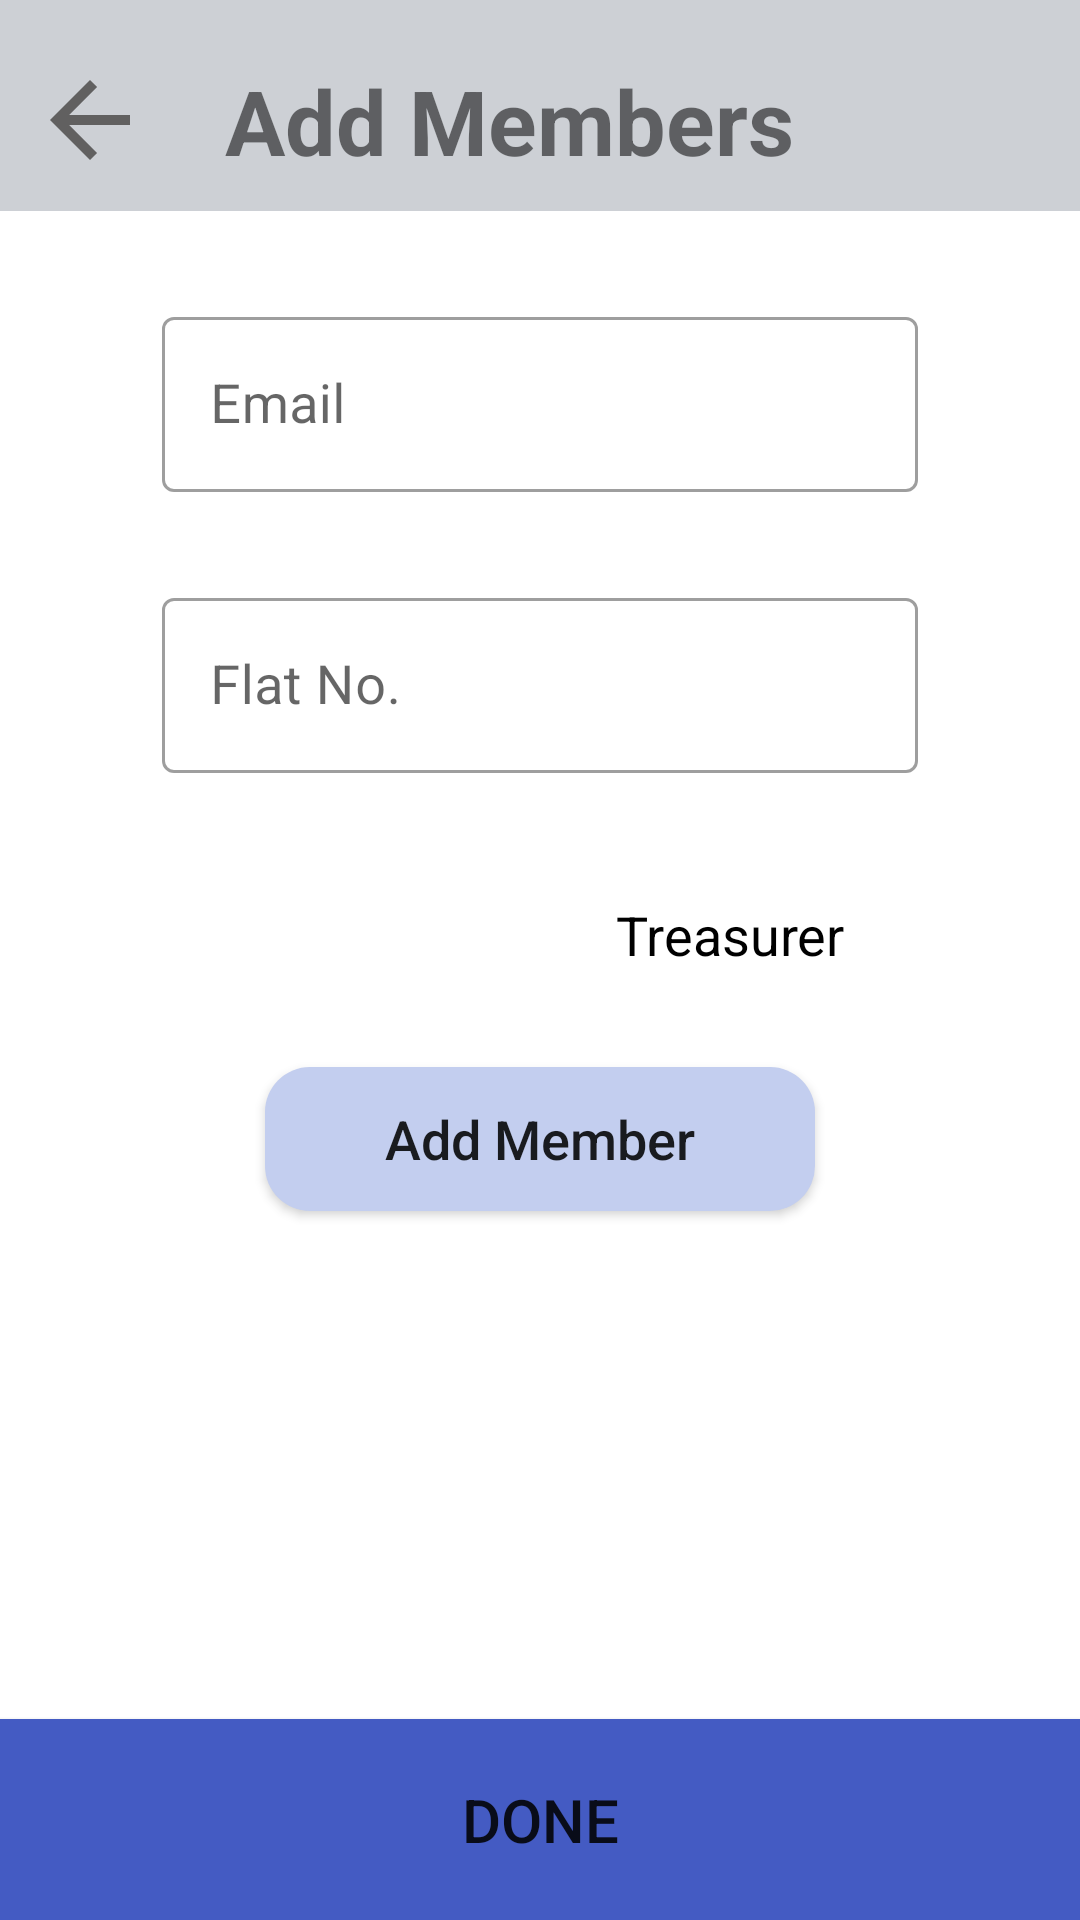

Where icons sit on this 1080 × 1920 app screen, as (x1, y1, x2, y2):
arrow back: (50, 80, 130, 160)
